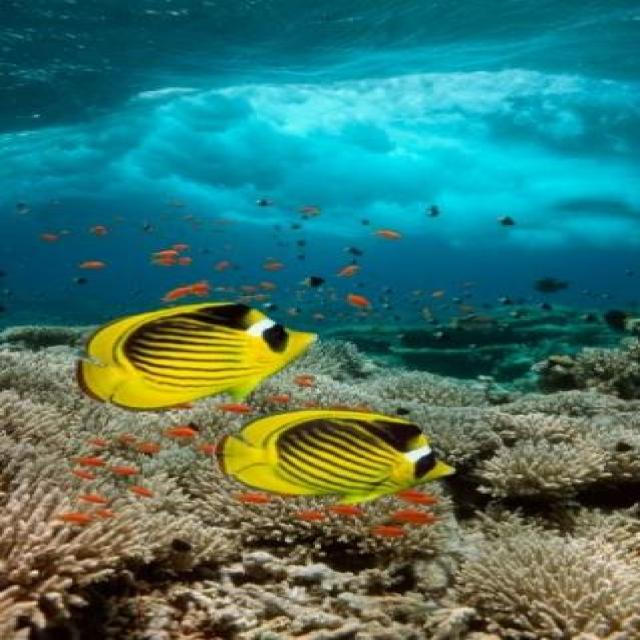ButterflyFish: (76, 302, 317, 408), (218, 408, 452, 504)
